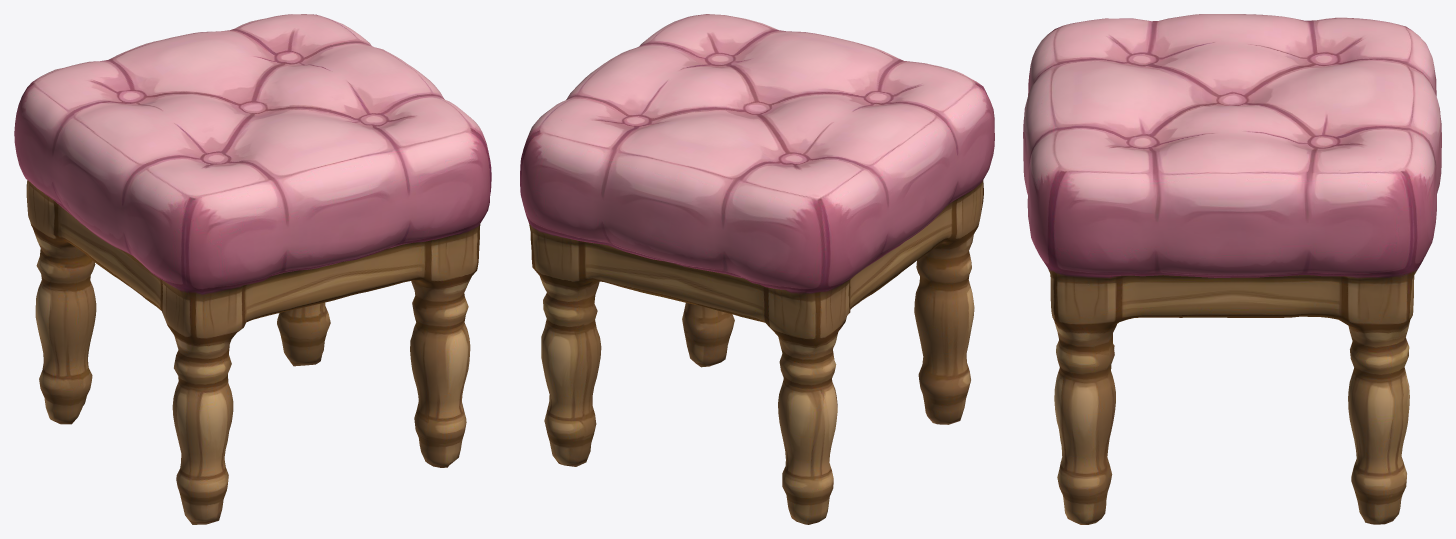
File: Wood_pink_stool.glb
The picture shows the model from 3 angles, left to right: view 1: azimuth 30°, elevation 25°; view 2: azimuth 150°, elevation 25°; view 3: azimuth 270°, elevation 25°; orthographic projection. The views are drawn at different scales.
Parts seen in each view (by area): view 1: RETOPO; view 2: RETOPO; view 3: RETOPO.
Boxes of the visible parts, left/top/right/bottom form: RETOPO: left=14, top=14, right=491, bottom=524; RETOPO: left=520, top=14, right=994, bottom=524; RETOPO: left=1023, top=14, right=1441, bottom=524.
Size of the model in its own units: 0.8064 by 0.8009 by 0.803.
1 material, 1 textured.
